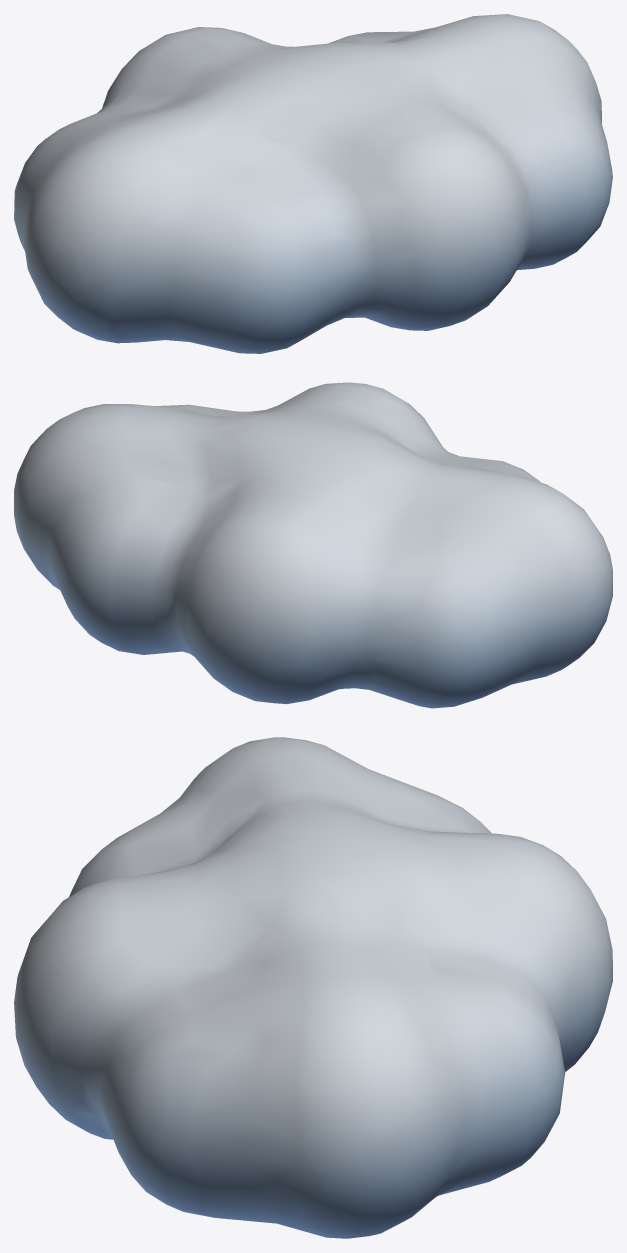
Rendered from pet_cloud.fbx.
3 renders of one model, top to bottom at view 1: azimuth 30°, elevation 25°; view 2: azimuth 150°, elevation 25°; view 3: azimuth 270°, elevation 25°, orthographic. The views are drawn at different scales.
Parts seen in each view (by area): view 1: pet_cloud; view 2: pet_cloud; view 3: pet_cloud.
Boxes of the visible parts, box(x1,y1,x2,y2) form: pet_cloud: box(14, 14, 612, 353); pet_cloud: box(14, 382, 612, 708); pet_cloud: box(14, 737, 612, 1238).
Size of the model in its own units: 3.3 by 1.23 by 2.4.
